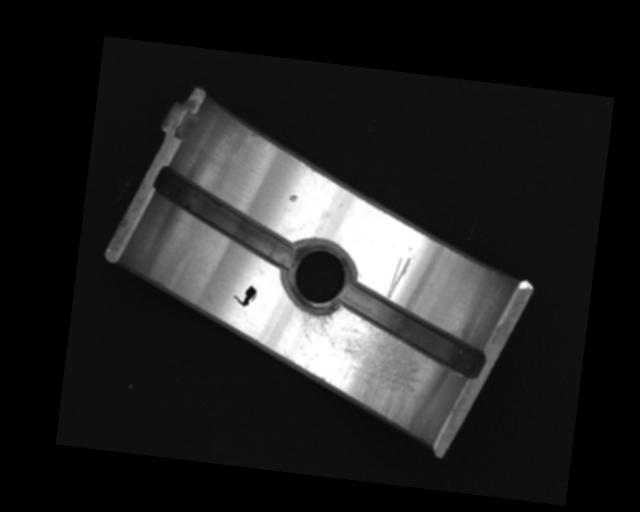blot: (232, 282, 258, 308)
bruise: (287, 193, 298, 203)
gap: (146, 166, 307, 272), (335, 282, 491, 379)
hole: (278, 238, 358, 319)
nick: (386, 253, 412, 303)
scratch: (281, 308, 429, 431)
